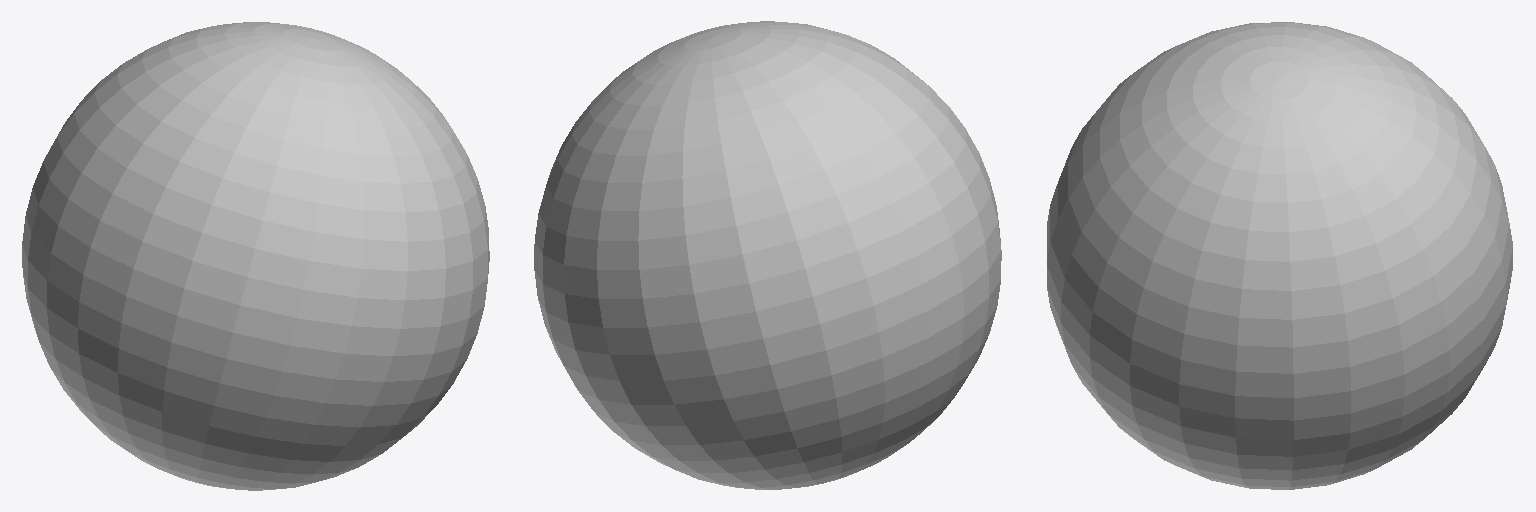
The model's file is CubeWITHAnim0010.obj.
3 views of the same model, side by side, from view 1: azimuth 30°, elevation 25°; view 2: azimuth 150°, elevation 25°; view 3: azimuth 270°, elevation 25° (orthographic).
Visible parts, largest first — view 1: NEWJumpBall_Sphere; view 2: NEWJumpBall_Sphere; view 3: NEWJumpBall_Sphere.
Part boxes in pixels (bbox=[...]): NEWJumpBall_Sphere: bbox=[22, 22, 489, 490]; NEWJumpBall_Sphere: bbox=[534, 21, 1001, 489]; NEWJumpBall_Sphere: bbox=[1047, 22, 1512, 489].
Size of the model in its own units: 2 by 2 by 1.99.